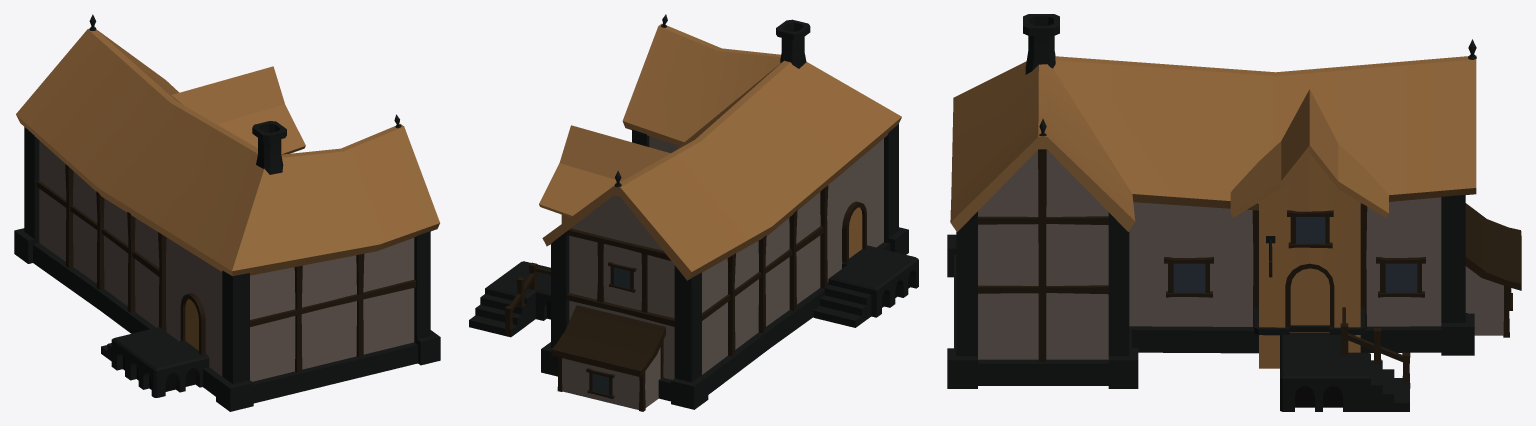
File: SM_Russian.obj
3 views of the same model, side by side, from view 1: azimuth 30°, elevation 25°; view 2: azimuth 150°, elevation 25°; view 3: azimuth 270°, elevation 25° (orthographic). The views are drawn at different scales.
Parts seen in each view (by area): view 1: SM_Inn:SM_Inn1; view 2: SM_Inn:SM_Inn1; view 3: SM_Inn:SM_Inn1.
Boxes of the visible parts, x1=… form: SM_Inn:SM_Inn1: x1=14, y1=14, x2=440, y2=411; SM_Inn:SM_Inn1: x1=469, y1=14, x2=918, y2=411; SM_Inn:SM_Inn1: x1=947, y1=14, x2=1521, y2=411.
Size of the model in its own units: 18.6 by 14.21 by 25.55.
